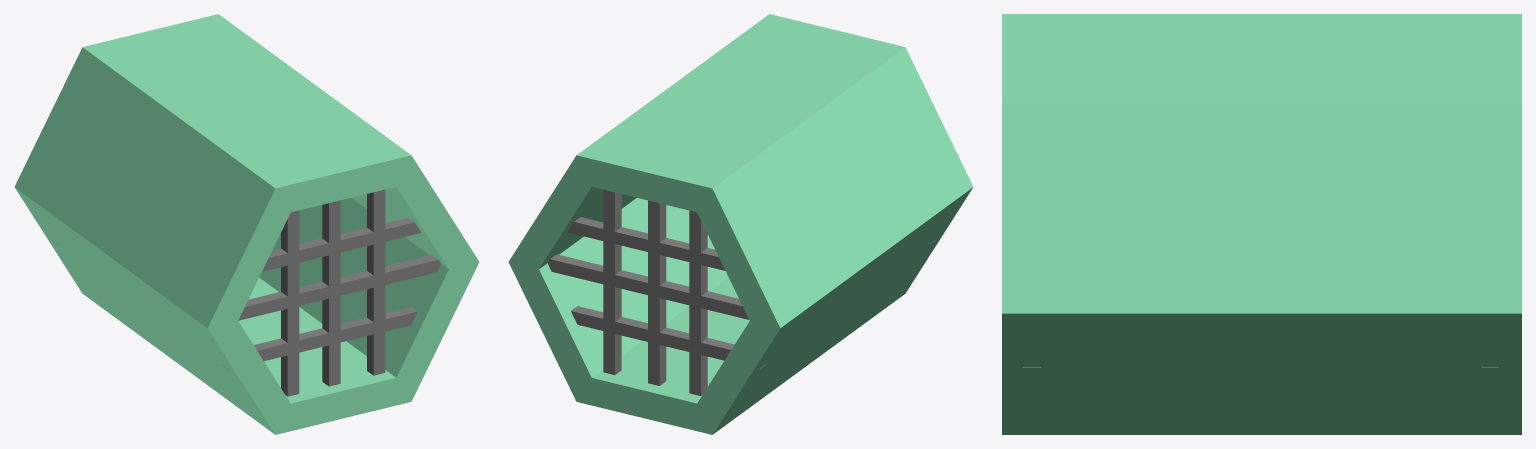
The model's file is animal cage.fbx.
The picture shows the model from 3 angles, left to right: view 1: azimuth 30°, elevation 25°; view 2: azimuth 150°, elevation 25°; view 3: azimuth 270°, elevation 25°; orthographic projection. The views are drawn at different scales.
Visible parts, largest first — view 1: Cylinder; view 2: Cylinder; view 3: Cylinder.
Boxes of the visible parts, bbox=[...] form: Cylinder: bbox=[14, 14, 479, 434]; Cylinder: bbox=[508, 14, 973, 434]; Cylinder: bbox=[1002, 14, 1521, 434].
Bounding box in the file's own units: 135 × 117 × 166.
